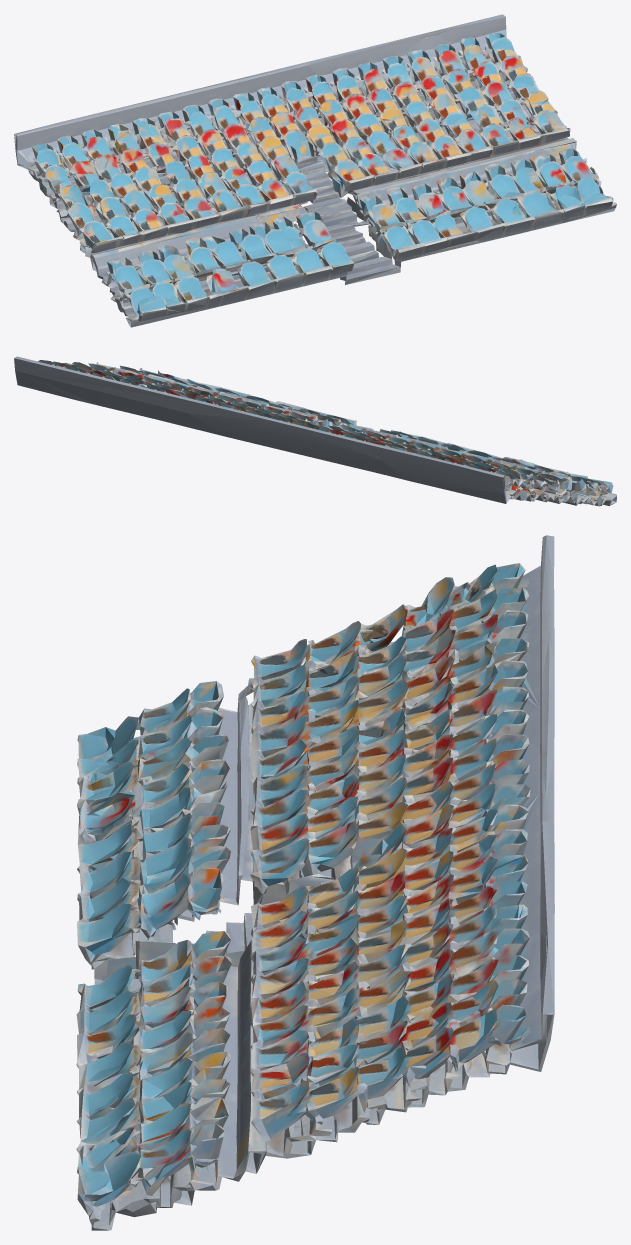
File: stands.glb
3 views of the same model, one above another, from view 1: azimuth 30°, elevation 25°; view 2: azimuth 150°, elevation 25°; view 3: azimuth 270°, elevation 25° (orthographic). The views are drawn at different scales.
Size of the model in its own units: 1.9 by 0.4526 by 0.8054.
1 material, 1 textured.
